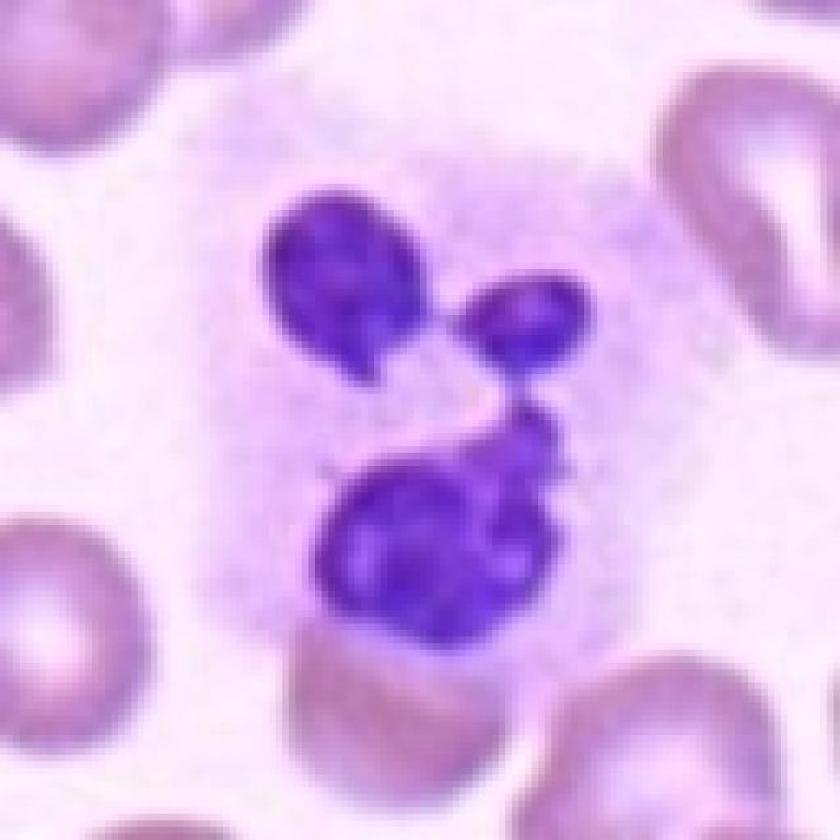neutrophil: (169, 82, 731, 708)
